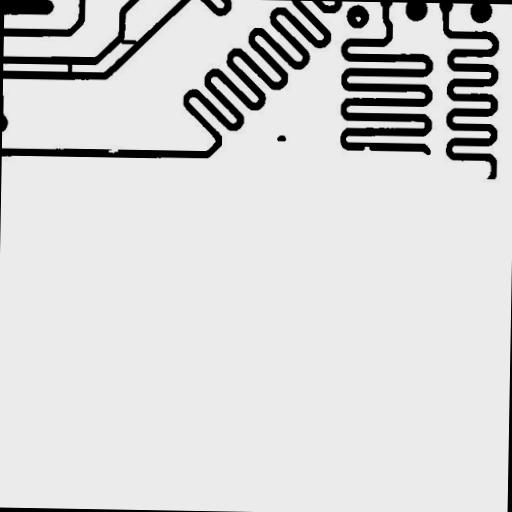copper: (269, 128, 293, 148)
mousebite: (100, 138, 126, 161), (356, 139, 378, 159)
pin-hole: (347, 8, 368, 28)
short: (113, 32, 144, 52), (60, 52, 80, 80)
